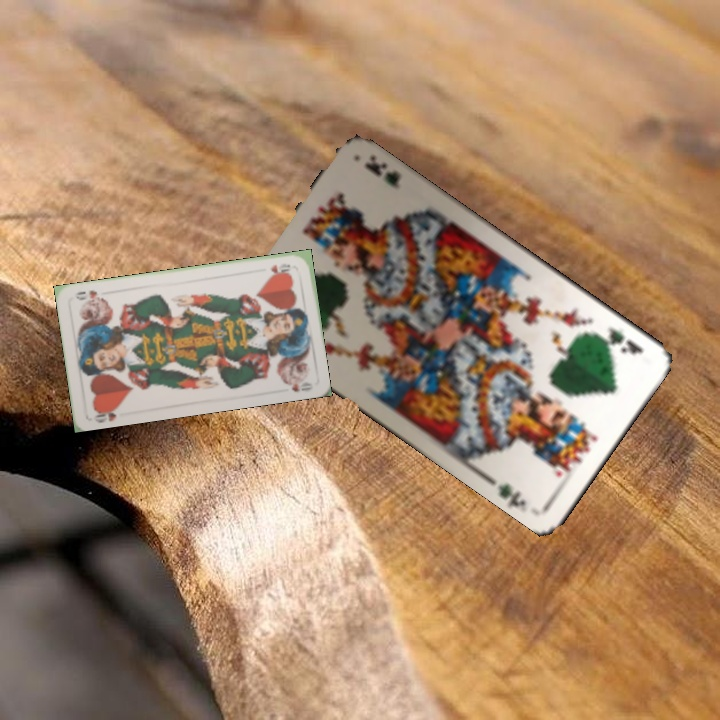GK: (591, 322, 646, 358)
HO: (89, 402, 122, 425), (267, 259, 295, 276)
